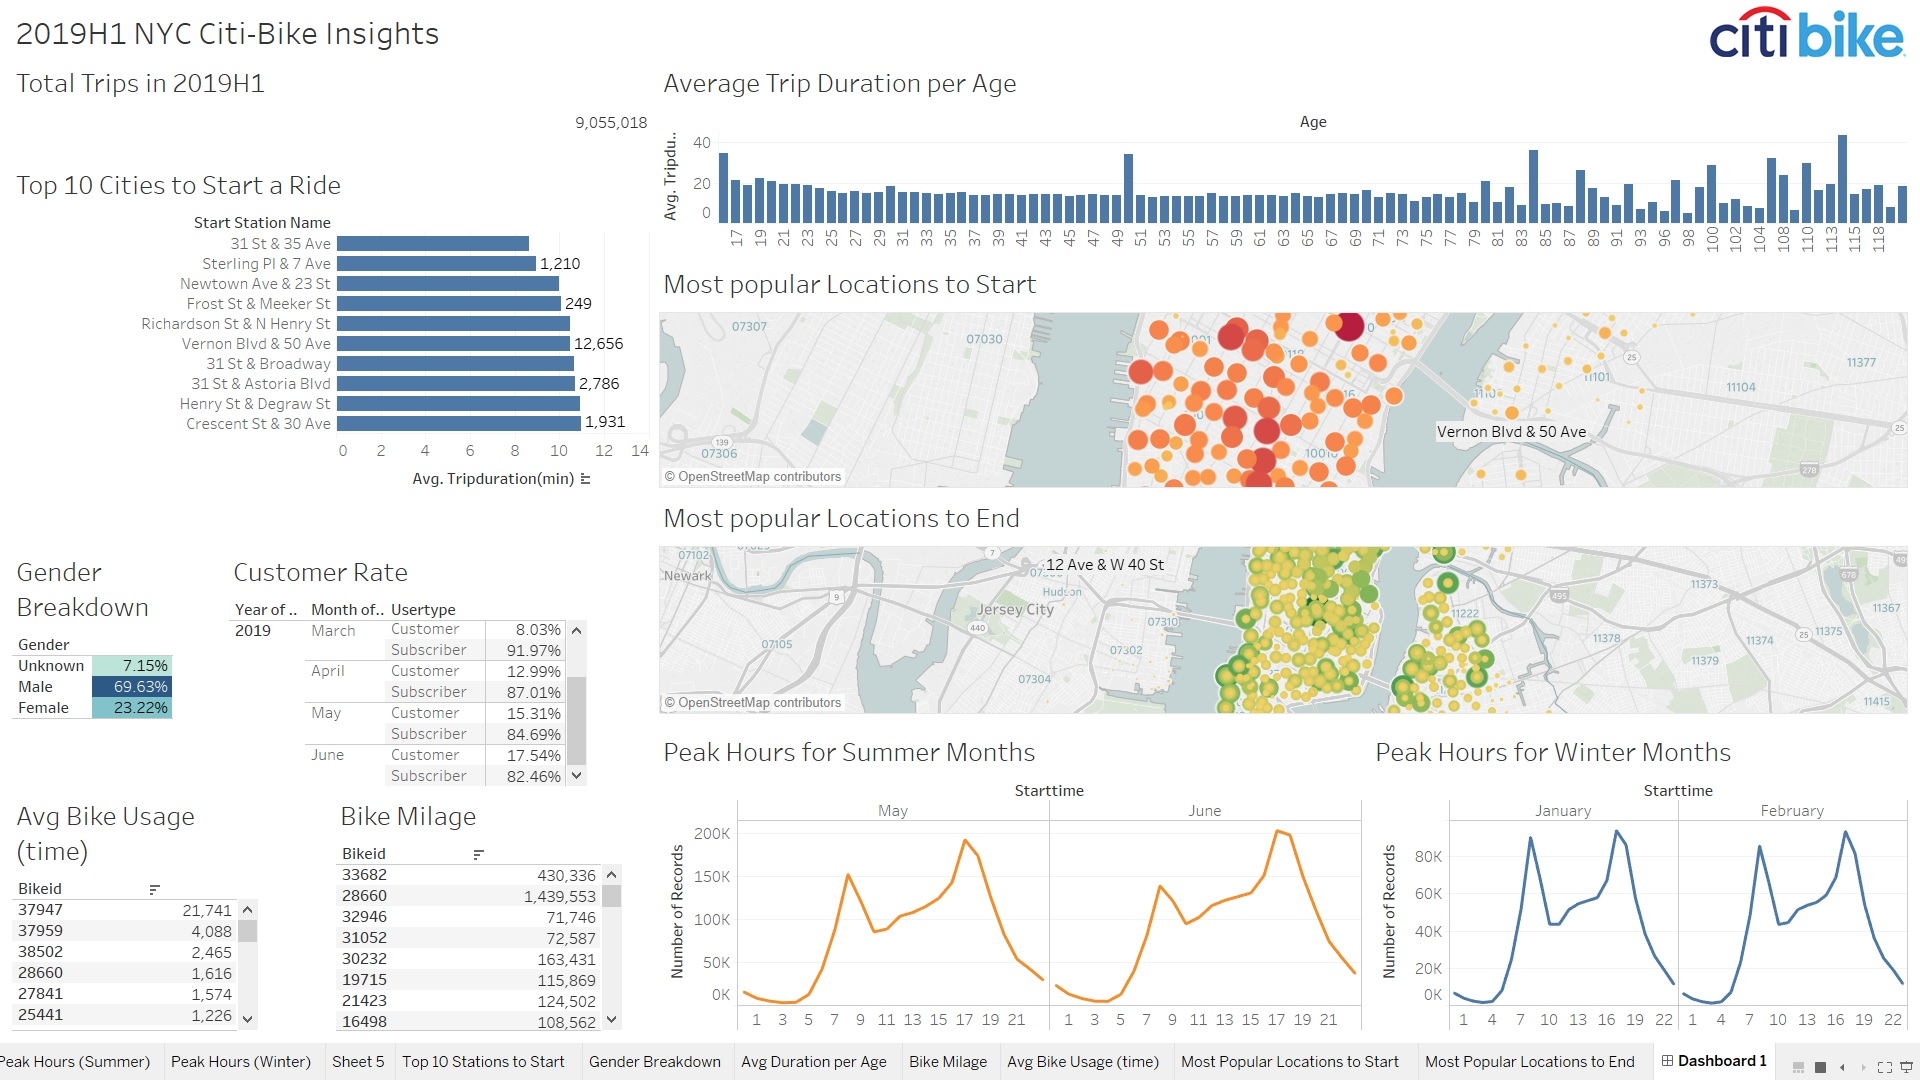

This screenshot's page, from the dashboard's own definition file:
{"tool":"tableau","page":{"name":"Dashboard 1","canvas":[1000,1000],"units":"permille","ordinal":0},"visuals":[{"type":"image","param":"C:/Users/Ruben D. Colmenares/Documents/TEC/Data Bootcamp/Github Repository/Ruben","box":[890.8,5.8,102,70.9]},{"type":"title","box":[4.8,9.3,990.3,46.4]},{"type":"worksheet","title":"Total Trips in 2019H1","mark":"Automatic","box":[4.8,55.7,336.7,97.5]},{"type":"worksheet","title":"Avg Duration per Age","mark":"Automatic","rows":["Calculation_1646347153593520128"],"cols":["Calculation_1646347153609326594"],"box":[341.6,55.7,653.6,213.3]},{"type":"worksheet","title":"Top 10 Stations to Start","mark":"Automatic","rows":["start station name"],"cols":["Calculation_1646347153593520128"],"box":[4.8,153.3,336.7,369.9]},{"type":"worksheet","title":"Most Popular Locations to Start","mark":"Automatic","rows":["start station latitude"],"cols":["start station longitude"],"box":[341.6,269,653.6,213.3]},{"type":"worksheet","title":"Most Popular Locations to End","mark":"Automatic","rows":["end station latitude"],"cols":["end station longitude"],"box":[341.6,482.3,653.6,213.3]},{"type":"worksheet","title":"Gender Breakdown","mark":"Square","rows":["gender"],"box":[4.8,523.2,112.8,233.7]},{"type":"worksheet","title":"Customer Rate","mark":"Automatic","rows":["starttime","starttime","usertype"],"box":[117.7,523.2,223.9,233.7]},{"type":"worksheet","title":"Peak Hours (Summer)","mark":"Automatic","rows":["Number of Records"],"cols":["starttime","starttime"],"box":[341.6,695.7,324.7,295.1]},{"type":"worksheet","title":"Peak Hours (Winter)","mark":"Automatic","rows":["Number of Records"],"cols":["starttime","starttime"],"box":[666.3,695.7,328.9,295.1]},{"type":"worksheet","title":"Avg Bike Usage (time)","mark":"Automatic","rows":["bikeid"],"box":[4.8,756.9,168.4,233.8]},{"type":"worksheet","title":"Bike Milage","mark":"Automatic","rows":["bikeid"],"box":[173.2,756.9,168.4,233.8]}]}

Visuals, with their boxes on the dashboard's canvas, which has no fixed pixel size, in thousandths of its width and height (x1, y1, x2, y2). These are canvas units, not pixel positions in the 1920x1080 screenshot, which may show the page scaled, cropped or inside an application window:
image: left=891, top=6, right=993, bottom=77
title: left=5, top=9, right=995, bottom=56
"Total Trips in 2019H1" worksheet: left=5, top=56, right=342, bottom=153
"Avg Duration per Age" worksheet: left=342, top=56, right=995, bottom=269
"Top 10 Stations to Start" worksheet: left=5, top=153, right=342, bottom=523
"Most Popular Locations to Start" worksheet: left=342, top=269, right=995, bottom=482
"Most Popular Locations to End" worksheet: left=342, top=482, right=995, bottom=696
"Gender Breakdown" worksheet (Square marks): left=5, top=523, right=118, bottom=757
"Customer Rate" worksheet: left=118, top=523, right=342, bottom=757
"Peak Hours (Summer)" worksheet: left=342, top=696, right=666, bottom=991
"Peak Hours (Winter)" worksheet: left=666, top=696, right=995, bottom=991
"Avg Bike Usage (time)" worksheet: left=5, top=757, right=173, bottom=991
"Bike Milage" worksheet: left=173, top=757, right=342, bottom=991
